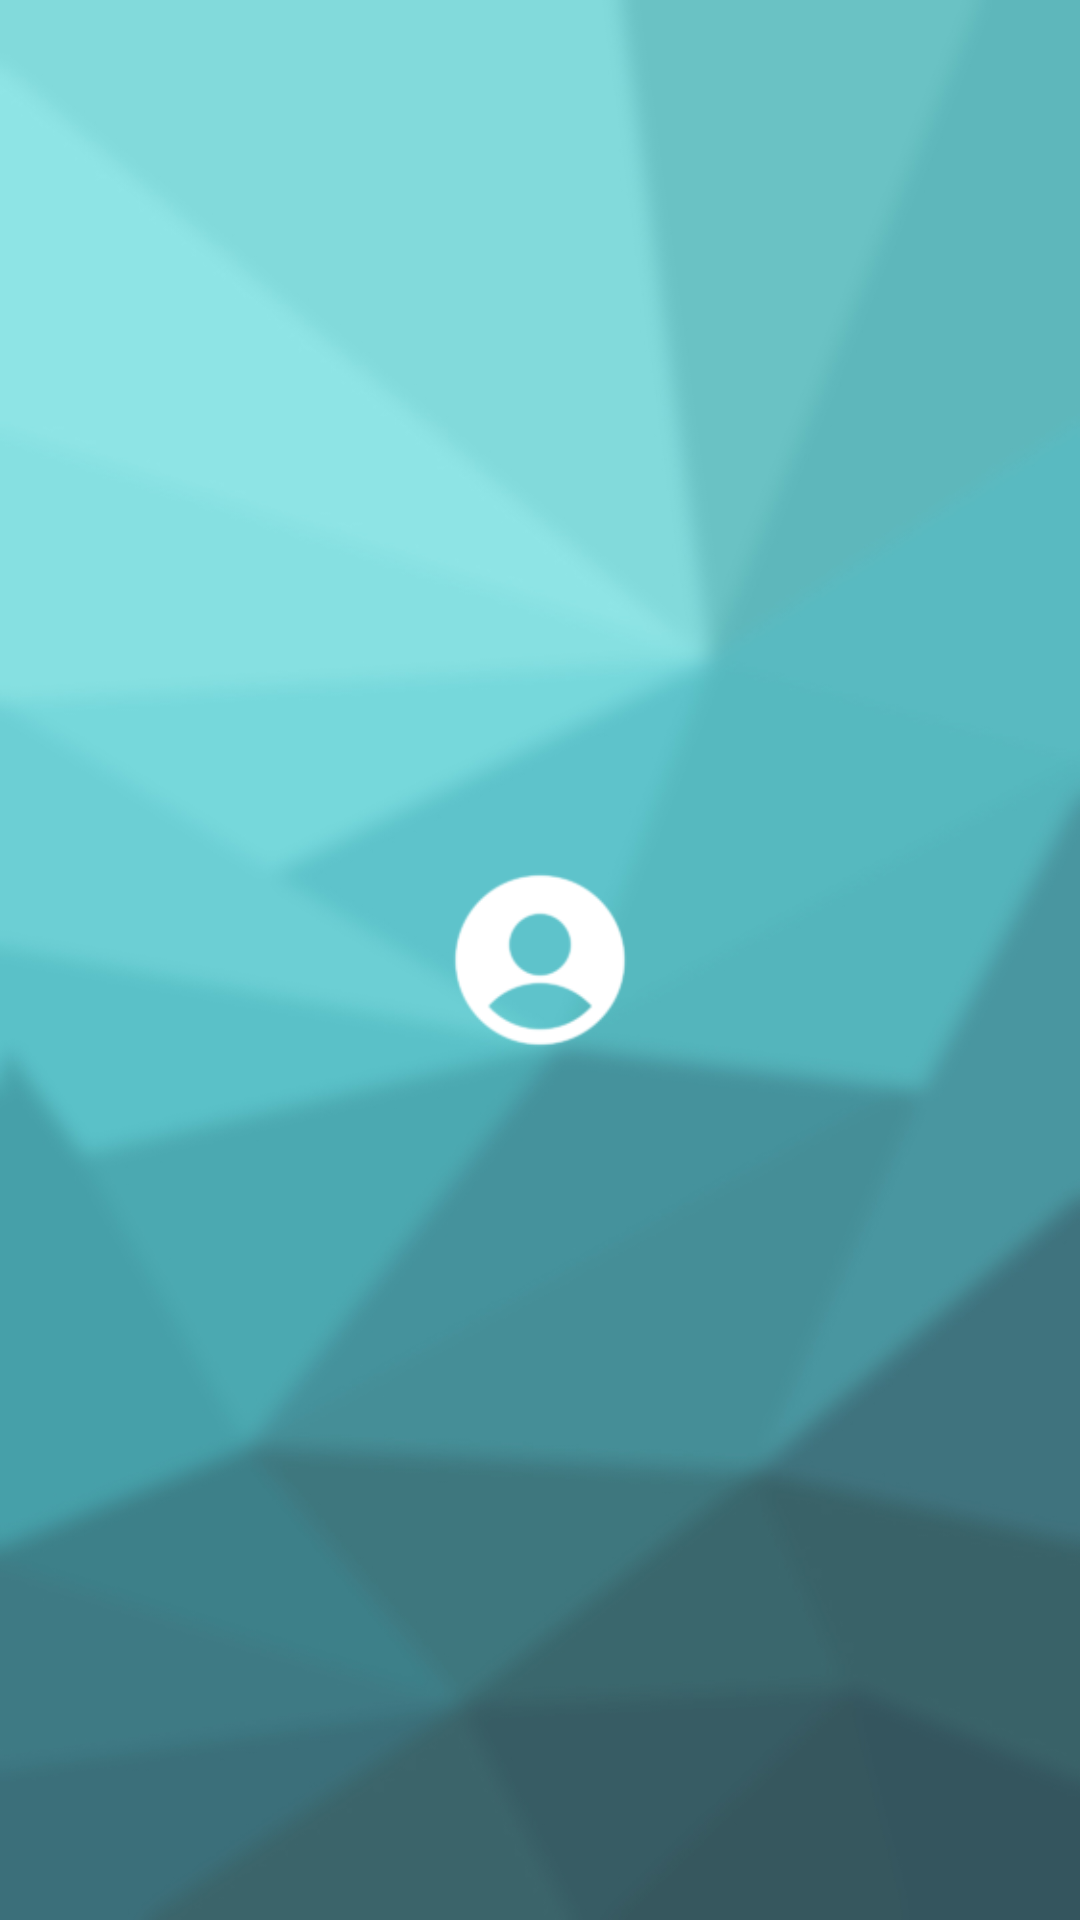

Named icons in this screenshot (1080×1920) and their centers, (x=x, y=y):
usericon: (x=540, y=960)
